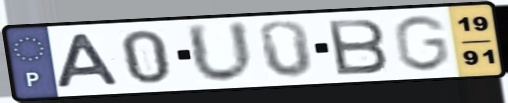0: (257, 19, 316, 81), (117, 28, 175, 86)
A: (52, 32, 124, 90)
B: (323, 17, 391, 77)
G: (390, 13, 452, 73)
U: (182, 19, 258, 86)
